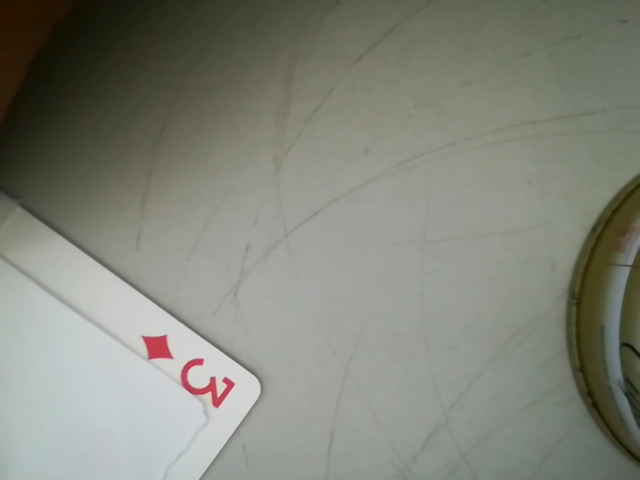fk 3: (135, 325, 245, 420)
